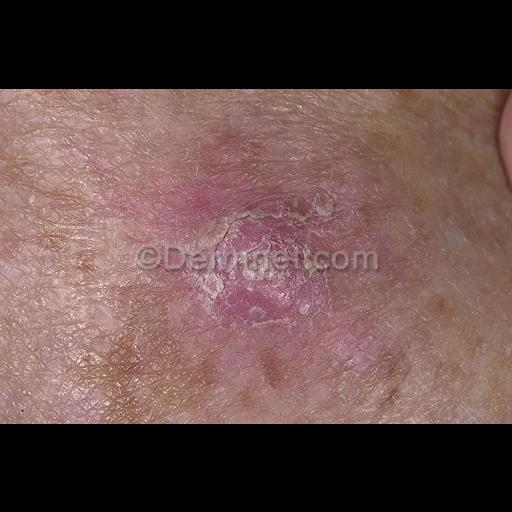Skin_Lesion: (156, 145, 358, 355)
